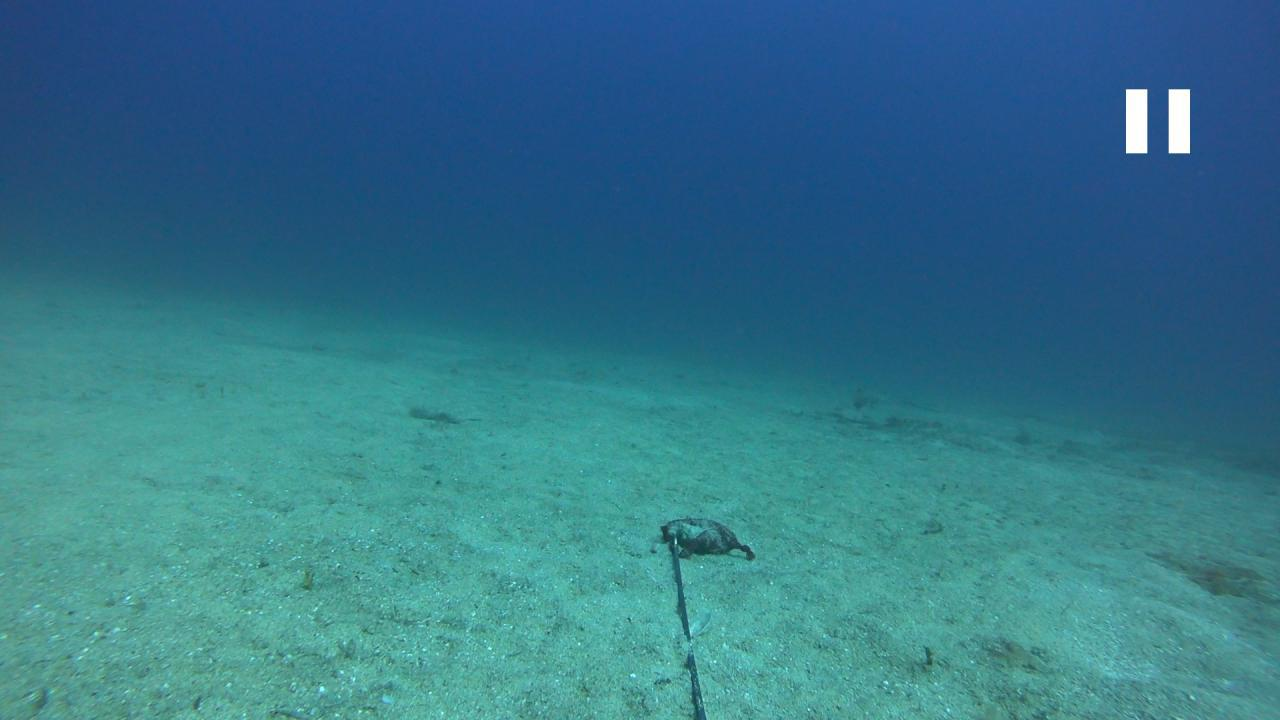dasyatis: (848, 384, 942, 415)
